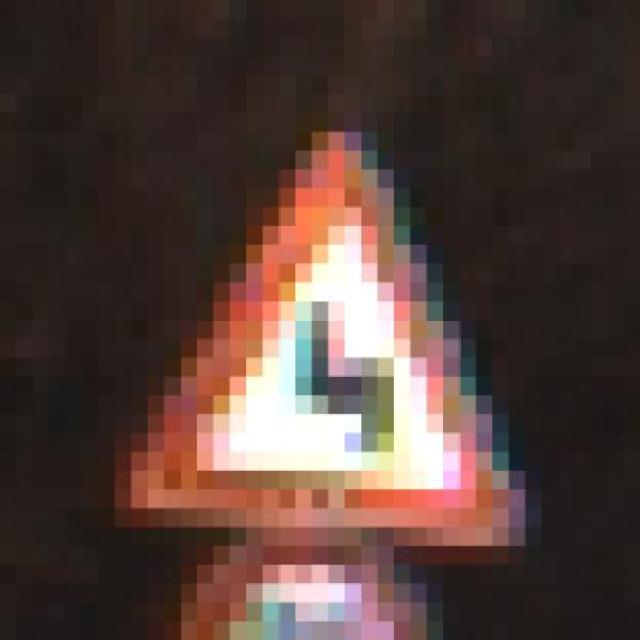Left Zig Zag Traffic: (81, 94, 542, 546)
